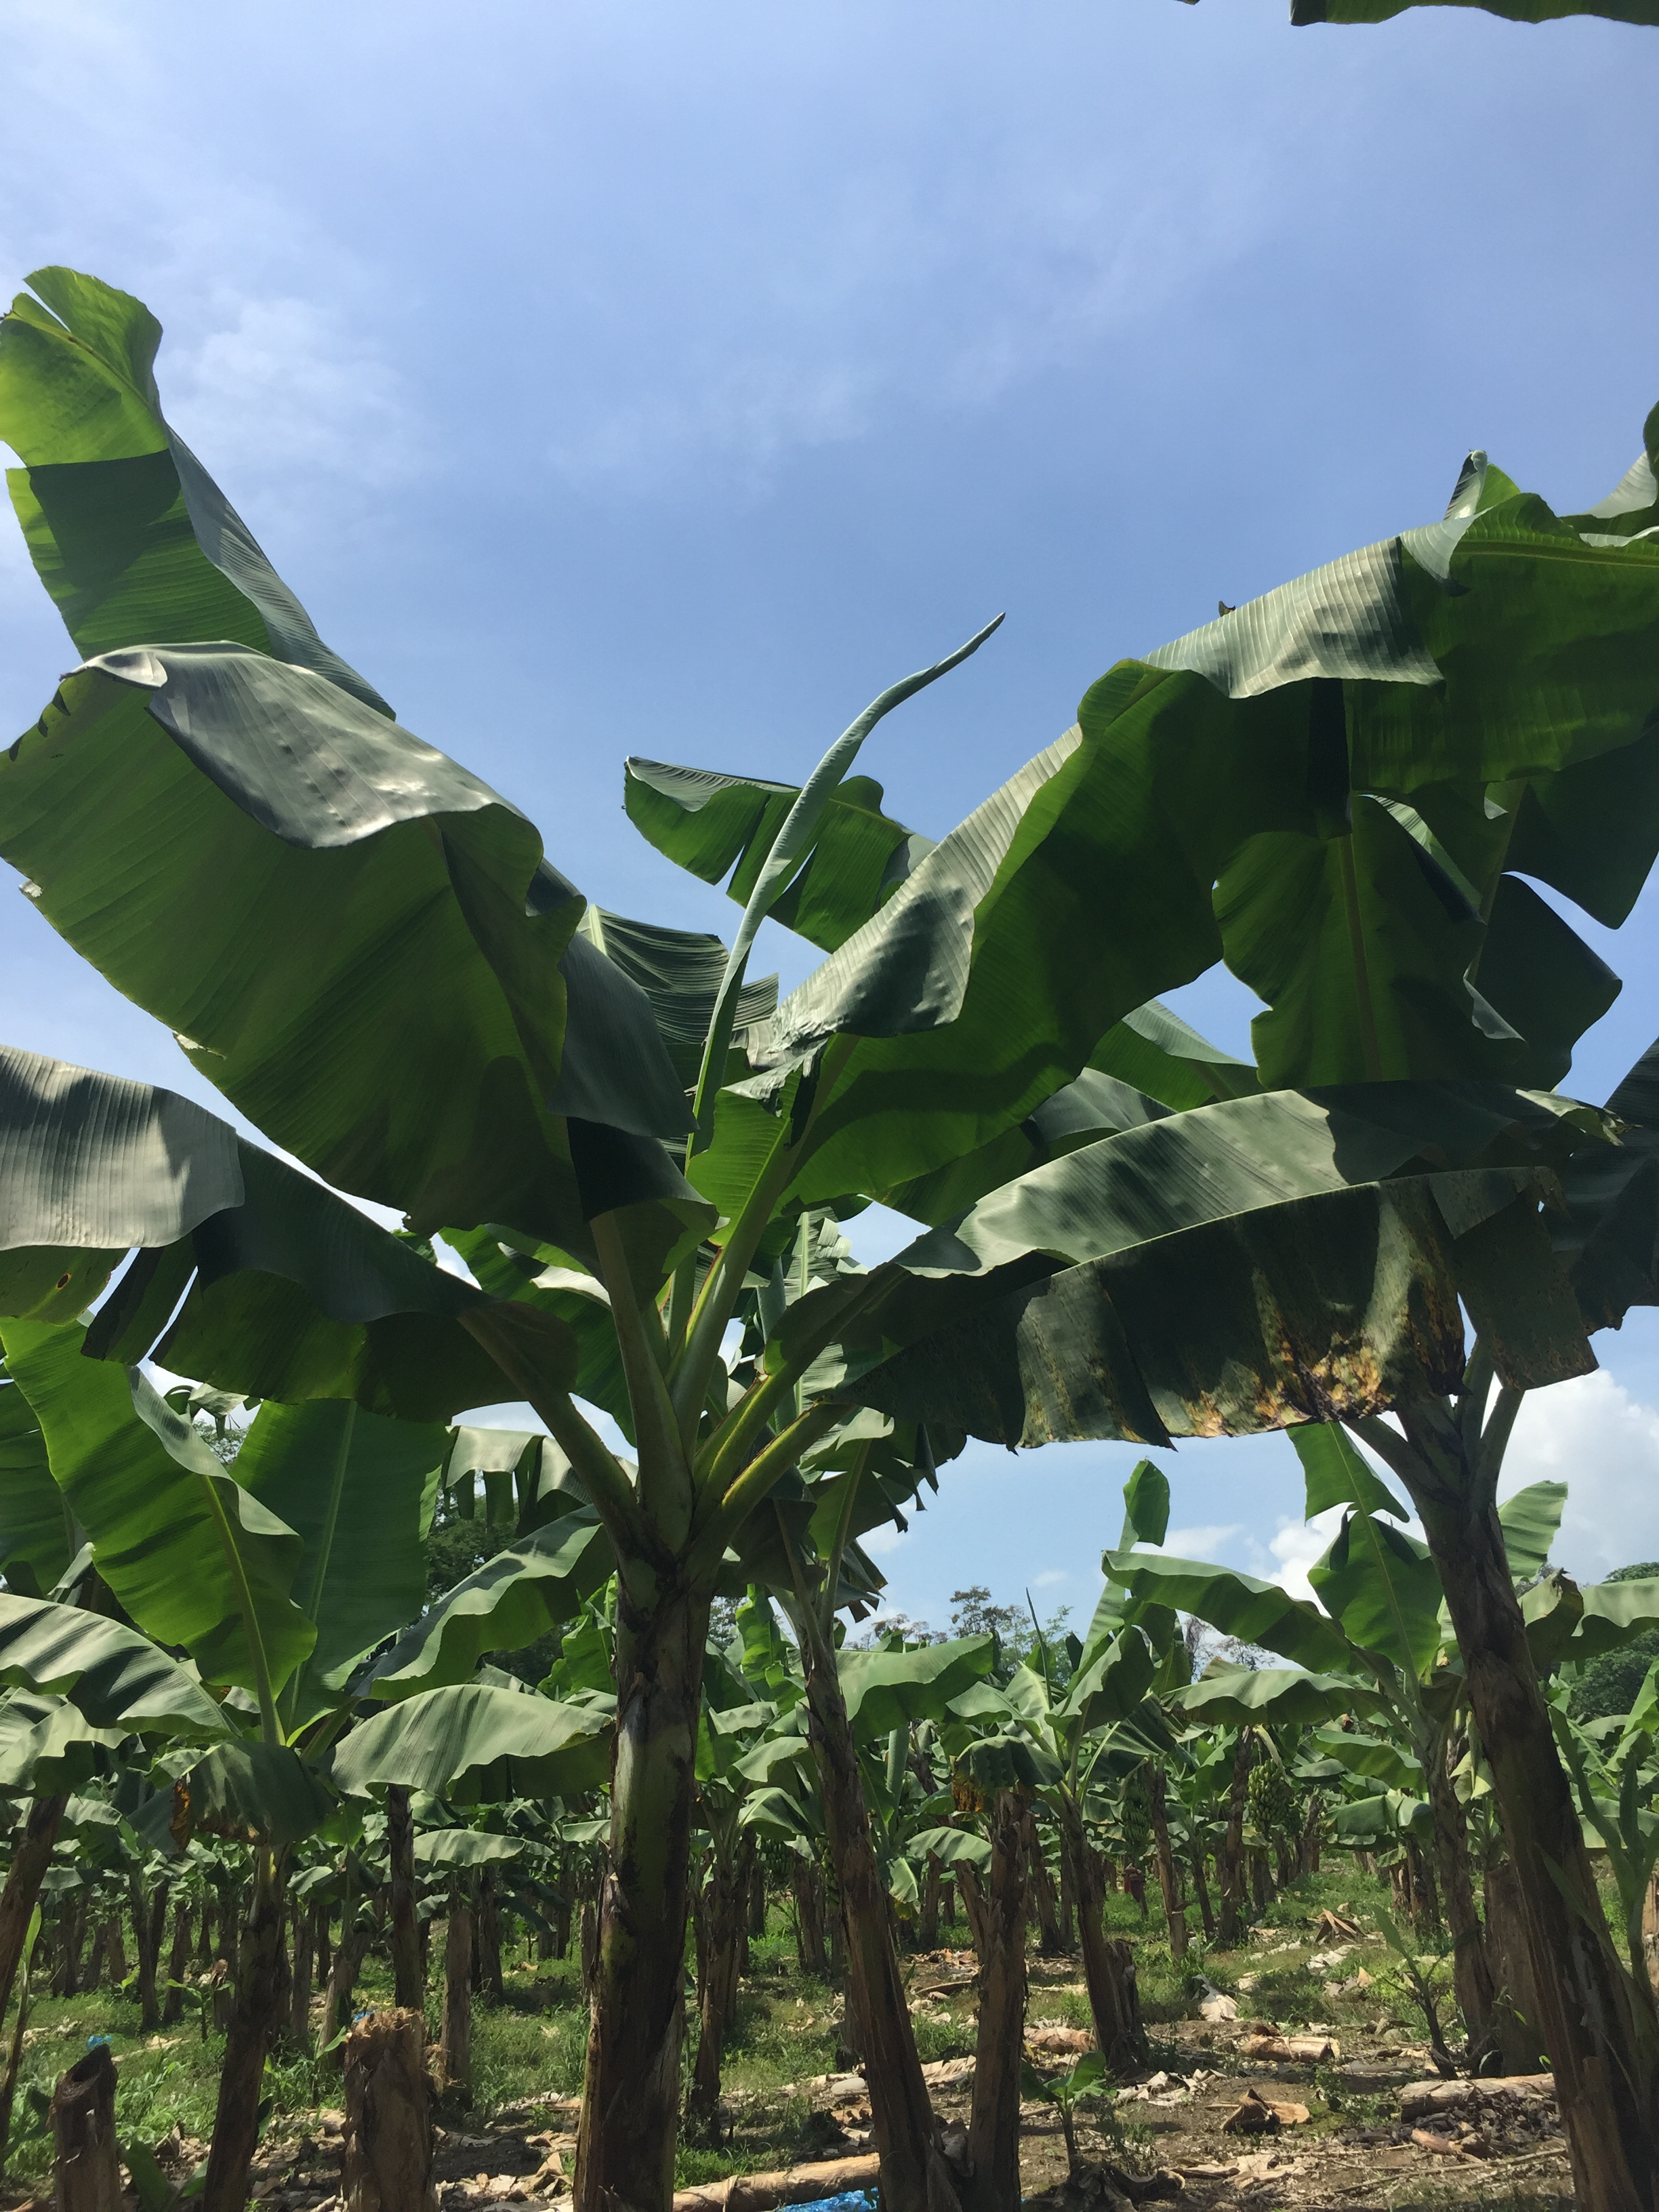candleleafs: (687, 613, 1006, 1167), (1025, 1587, 1063, 1757)
